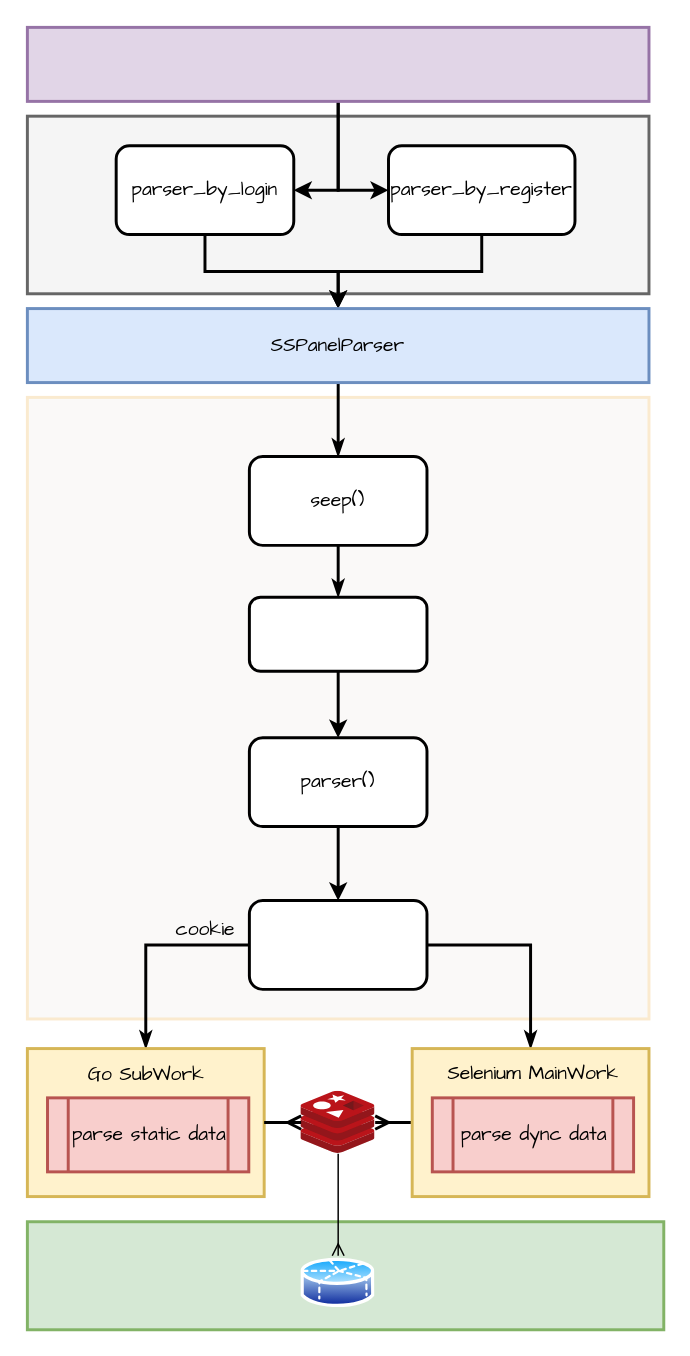
This 690x1356 diagram has some shape labels left out. The shapes that lost their labels are listed below. From the top down, each one's centre as x and y in pixels, then its label:
At [337,63]: "Cluster API".
At [337,633]: "func()".
At [337,944]: "load all elements".
